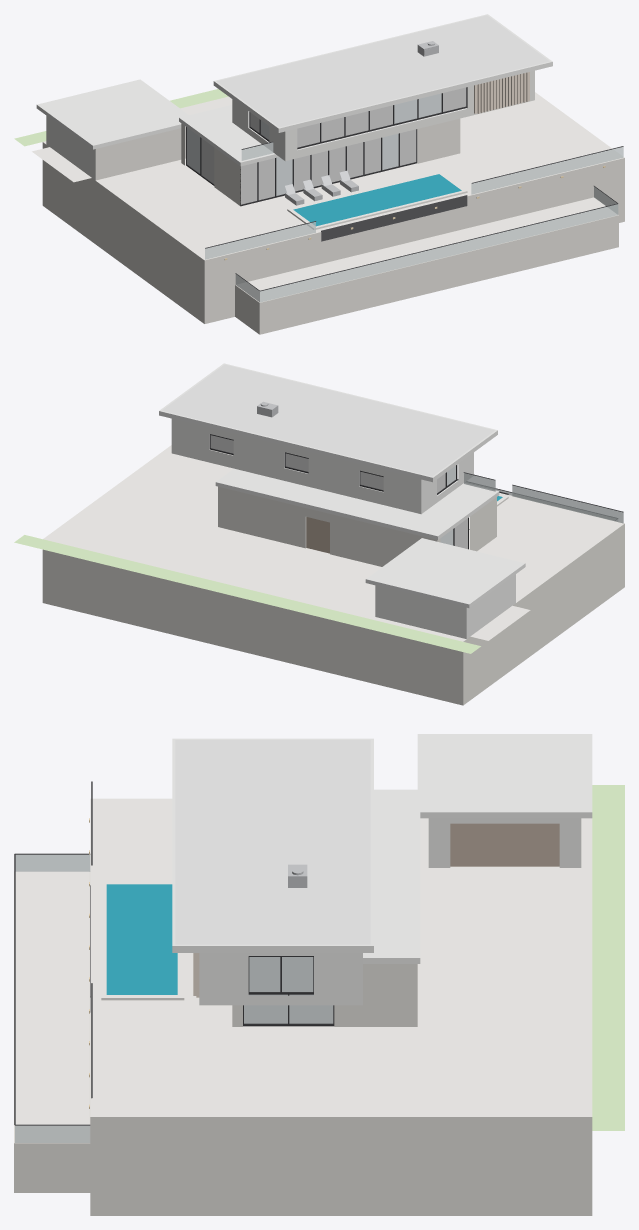
Rendered from mansion_w150b.glb.
The picture shows the model from 3 angles, top to bottom: view 1: azimuth 30°, elevation 25°; view 2: azimuth 150°, elevation 25°; view 3: azimuth 270°, elevation 25°; orthographic projection. The views are drawn at different scales.
Parts seen in each view (by area): view 1: mansion_w150b_Walls2, mansion_w150b_Site, mansion_w150b_Roof, mansion_w150b_Trim, mansion_w150b_Clear, mansion_w150b_WindowsLit, mansion_w150b_Walls, mansion_w150b_Water, mansion_w150b_Frames, mansion_w150b_Glass, mansion_w150b_Accent, mansion_w150b_Walls3 (+2 smaller); view 2: mansion_w150b_Walls2, mansion_w150b_Site, mansion_w150b_Roof, mansion_w150b_Trim, mansion_w150b_Walls, mansion_w150b_Lawn, mansion_w150b_Clear, mansion_w150b_WindowsLit, mansion_w150b_Frames, mansion_w150b_Doors; view 3: mansion_w150b_Site, mansion_w150b_Walls2, mansion_w150b_Roof, mansion_w150b_Trim, mansion_w150b_Lawn, mansion_w150b_Walls, mansion_w150b_Water, mansion_w150b_Doors, mansion_w150b_Glass, mansion_w150b_Clear, mansion_w150b_Frames.
Part boxes in pixels (x1,y1,x2,y2): mansion_w150b_Walls2: (42,118,624,334); mansion_w150b_Site: (32,92,624,301); mansion_w150b_Roof: (217,15,549,127); mansion_w150b_Trim: (36,14,552,166); mansion_w150b_Clear: (205,142,623,302); mansion_w150b_WindowsLit: (201,87,466,204); mansion_w150b_Walls: (46,70,534,180); mansion_w150b_Water: (293,174,461,226); mansion_w150b_Frames: (186,87,623,291); mansion_w150b_Glass: (187,93,441,195); mansion_w150b_Accent: (321,195,467,241); mansion_w150b_Walls3: (474,72,529,113); mansion_w150b_Walls2: (42,486,624,705); mansion_w150b_Site: (43,434,624,641); mansion_w150b_Roof: (162,364,494,476); mansion_w150b_Trim: (159,363,525,607); mansion_w150b_Walls: (171,418,515,638); mansion_w150b_Lawn: (14,535,480,653); mansion_w150b_Clear: (457,473,623,523); mansion_w150b_WindowsLit: (210,435,467,548); mansion_w150b_Frames: (209,434,623,549); mansion_w150b_Doors: (306,517,329,553); mansion_w150b_Site: (15,798,592,1142); mansion_w150b_Walls2: (14,871,592,1215); mansion_w150b_Roof: (175,740,370,944); mansion_w150b_Trim: (172,734,592,963); mansion_w150b_Lawn: (592,785,624,1130); mansion_w150b_Walls: (199,818,581,1005); mansion_w150b_Water: (106,884,177,994); mansion_w150b_Doors: (450,823,559,866); mansion_w150b_Glass: (244,957,333,1023); mansion_w150b_Clear: (15,854,90,1142); mansion_w150b_Frames: (14,781,334,1125).
Bounding box in the file's own units: 150 × 50.4 × 112.
